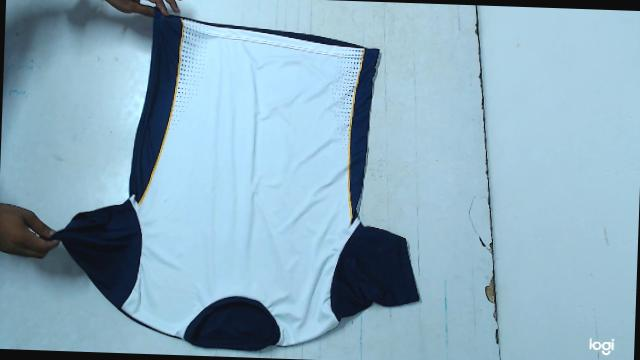new-garment: (56, 12, 419, 350)
